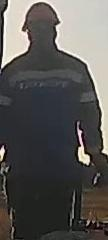gloves: (85, 144, 108, 188)
helmet: (20, 2, 62, 33)
vest: (0, 49, 93, 194)
